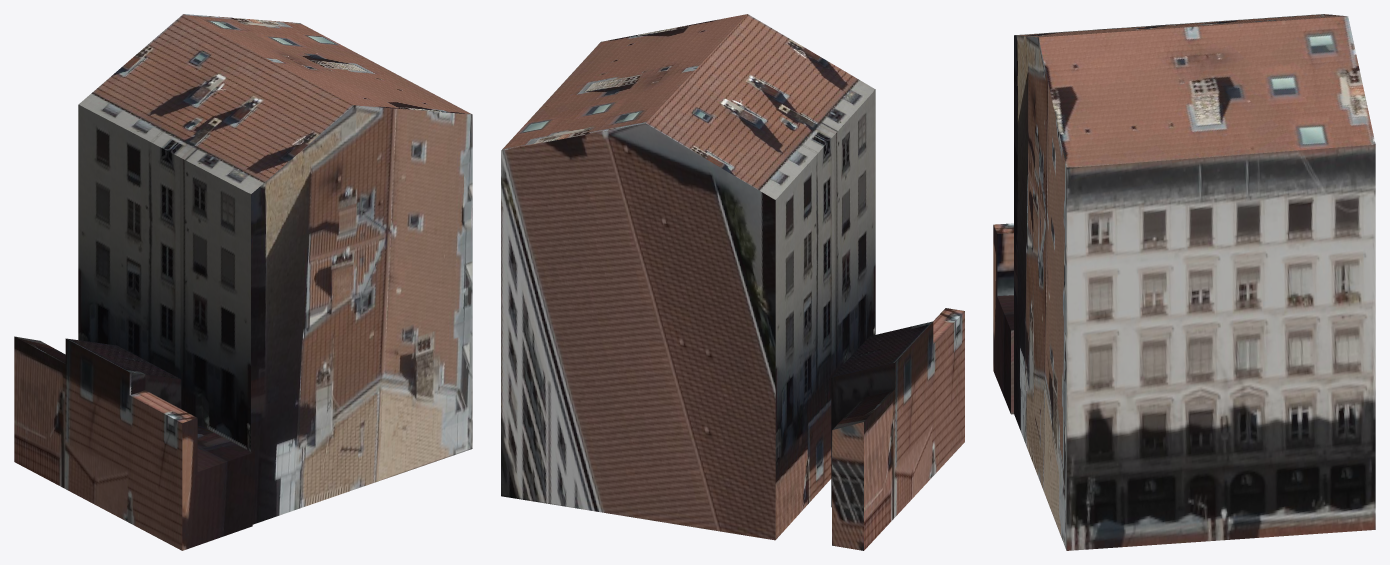
3 renders of one model, left to right at view 1: azimuth 30°, elevation 25°; view 2: azimuth 150°, elevation 25°; view 3: azimuth 270°, elevation 25°, orthographic. The views are drawn at different scales.
Parts seen in each view (by area): view 1: Z_UP; view 2: Z_UP; view 3: Z_UP.
Part boxes in pixels (x1,y1,x2,y2): Z_UP: (14,14,472,550); Z_UP: (501,14,964,550); Z_UP: (993,14,1375,550).
Size of the model in its own units: 24.17 by 24.92 by 19.56.
2 materials, 1 textured.
